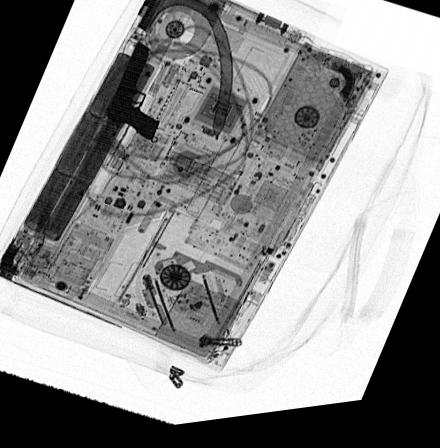Gun: (104, 44, 161, 147)
